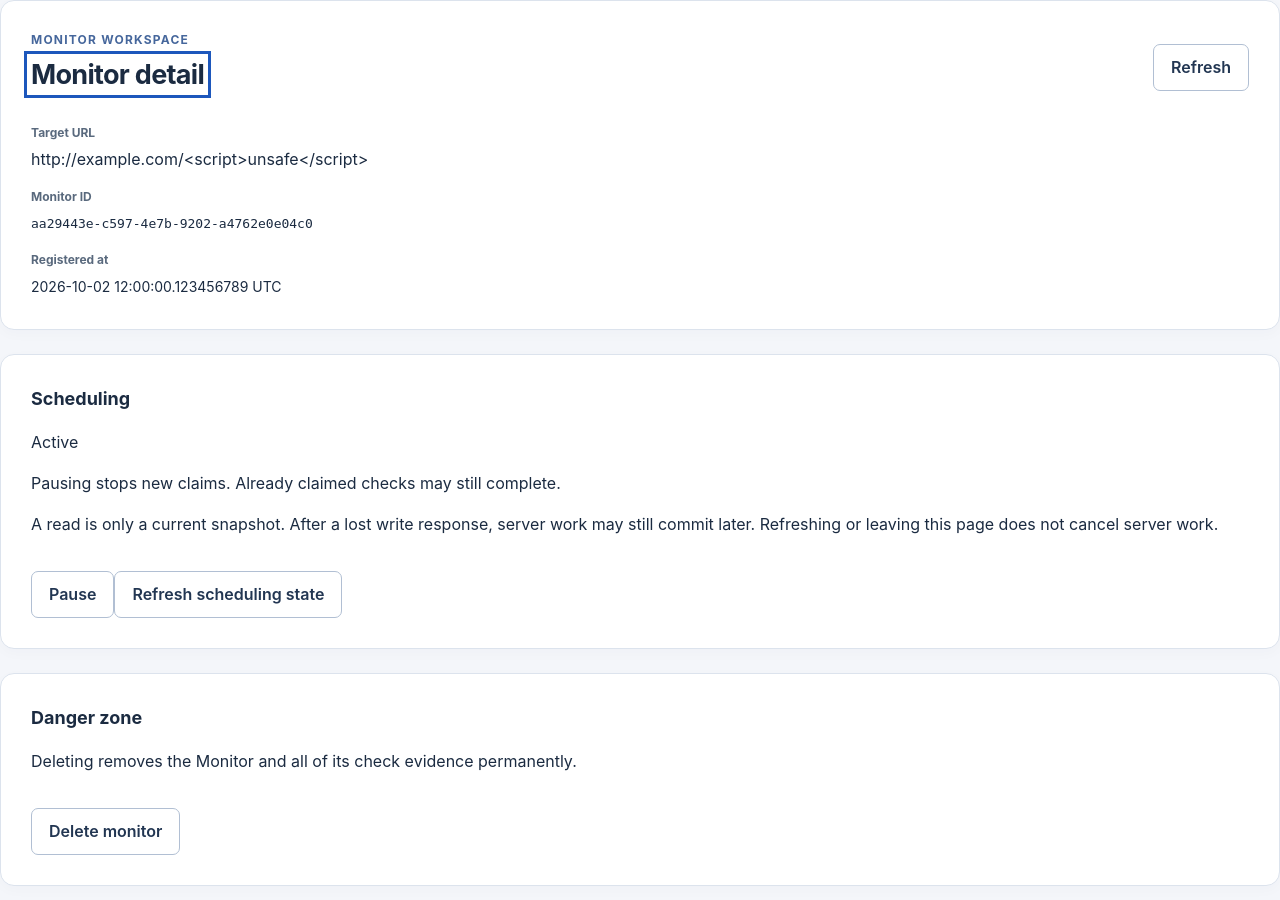
keeps scheduling write alive while evidence is refreshed
The image size is (1280, 900).
Click the button "Pause" at (73, 594), box [31, 571, 114, 618]
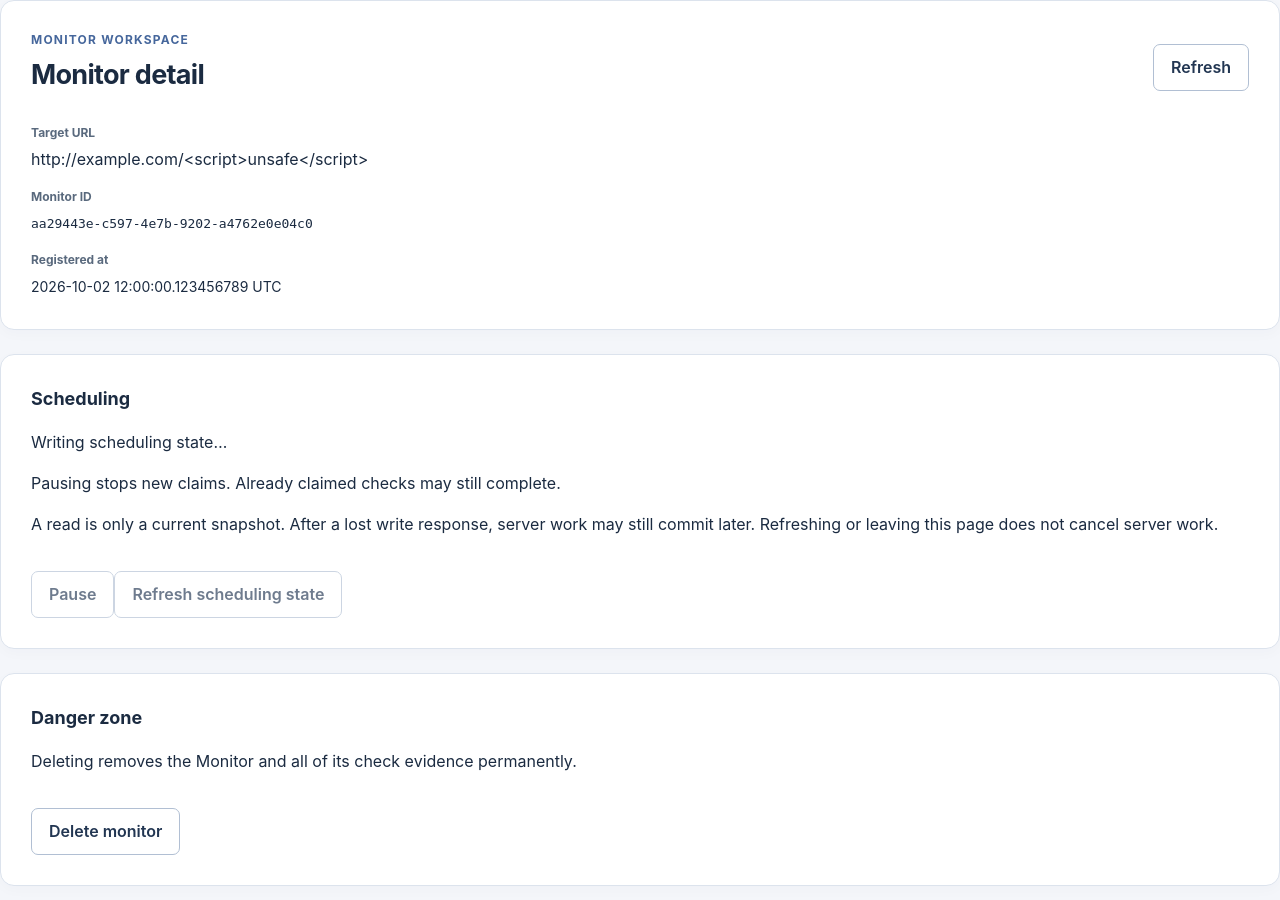
Click the button named "Refresh monitor" at (1201, 68), box [1153, 44, 1249, 91]
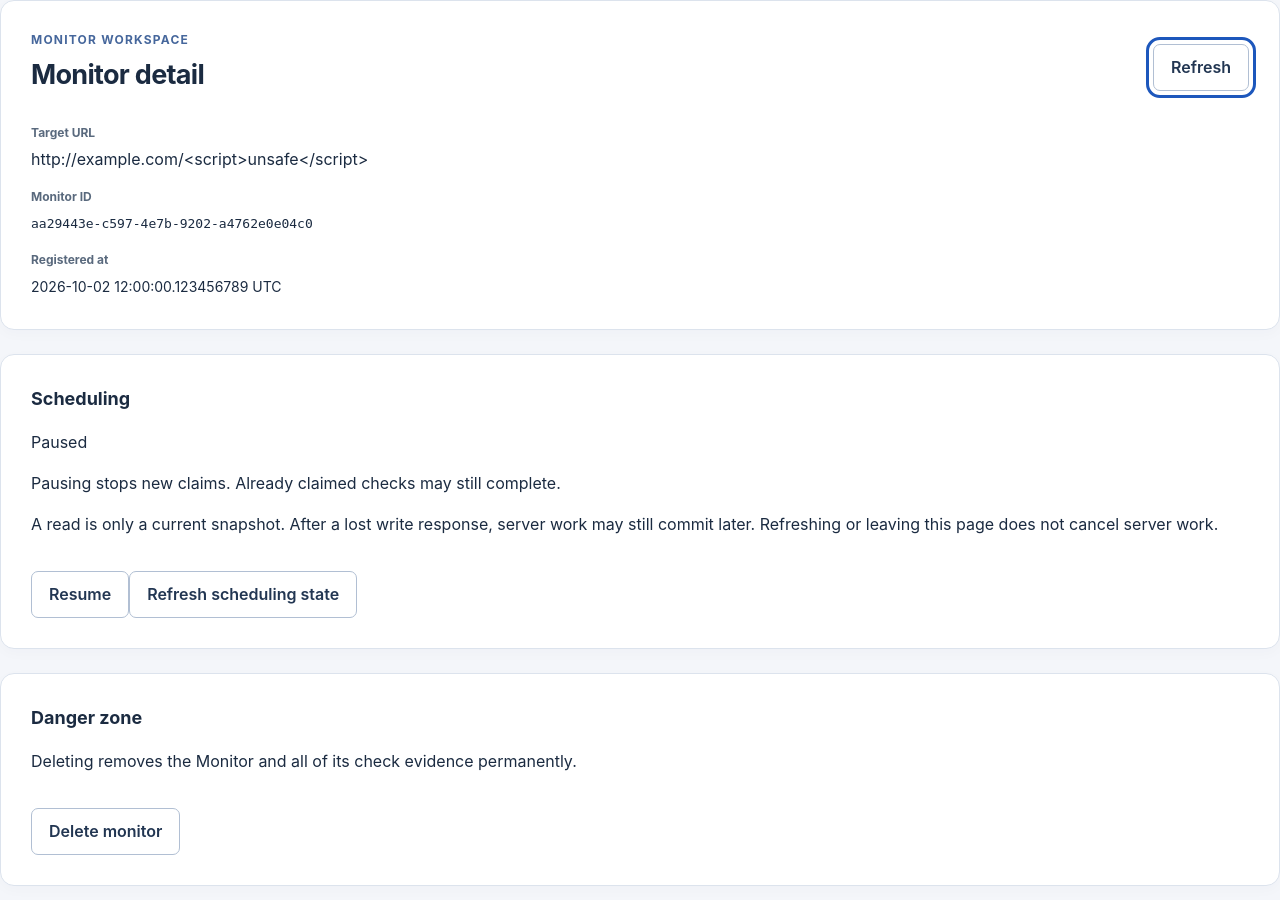
expect the button "Resume" is enabled: met, box [31, 571, 129, 618]
